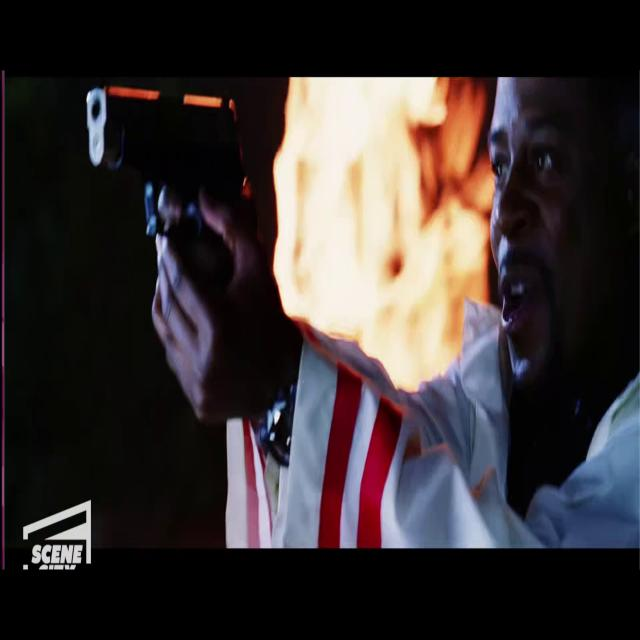weapons: (82, 82, 262, 305)
